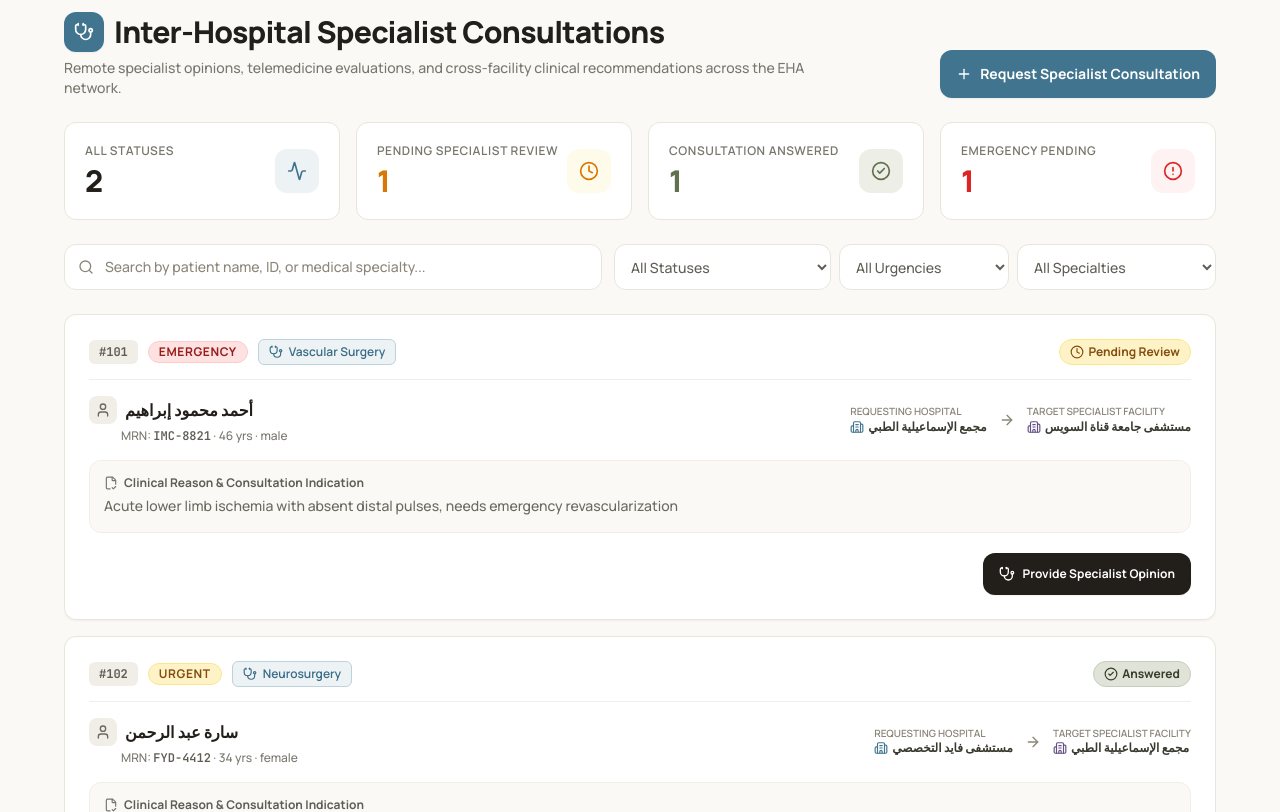
Scenario: ConsultationsPage › filters consultations by search query
Type "Vascular" into the search field with placeholder "Search by patient name, ID, or medical specialty...".
click(333, 267); type("Vascular")  # box [64,244,602,290]
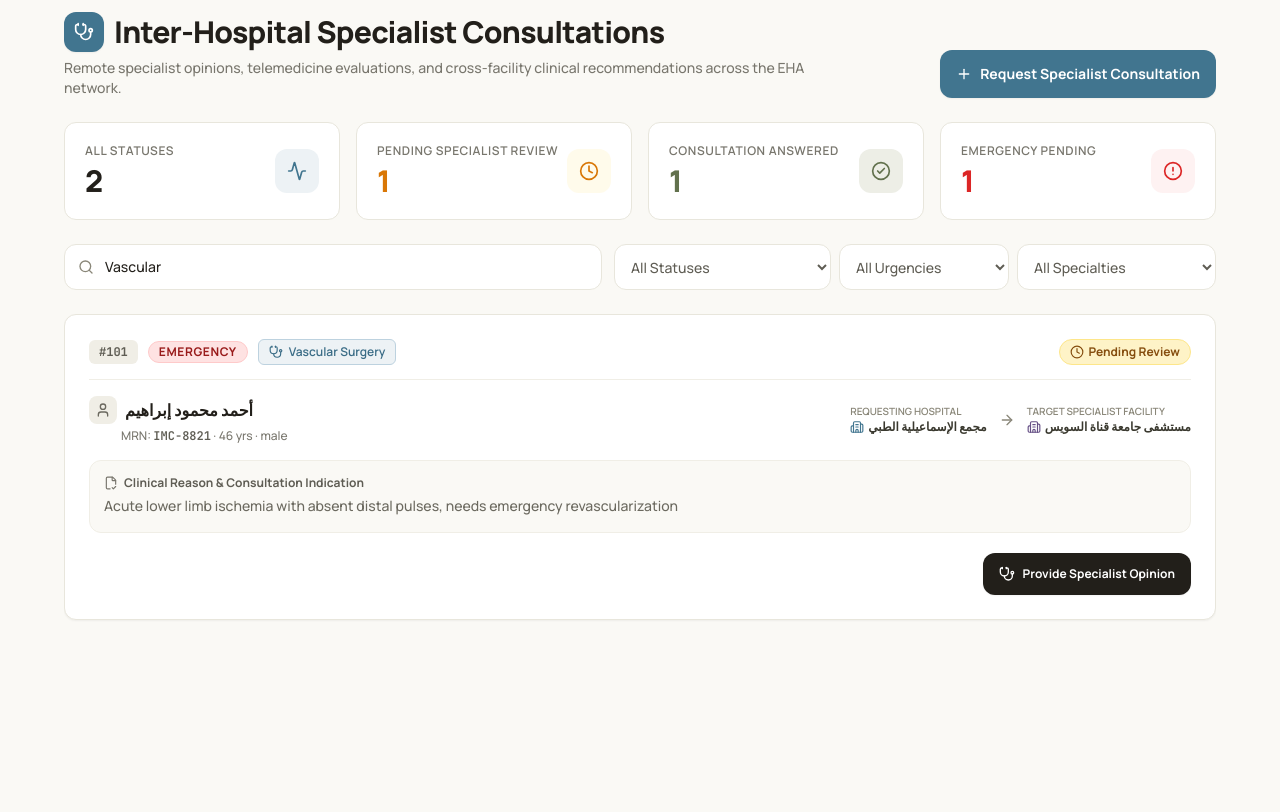
expect the text "أحمد محمود إبراهيم" is shown: met, box [125,398,253,422]
expect the text "سارة عبد الرحمن" is gone: met
